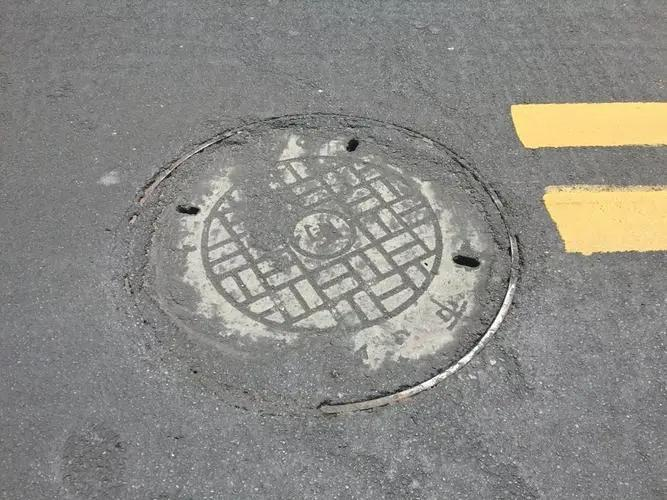wellcover: (125, 108, 533, 409)
